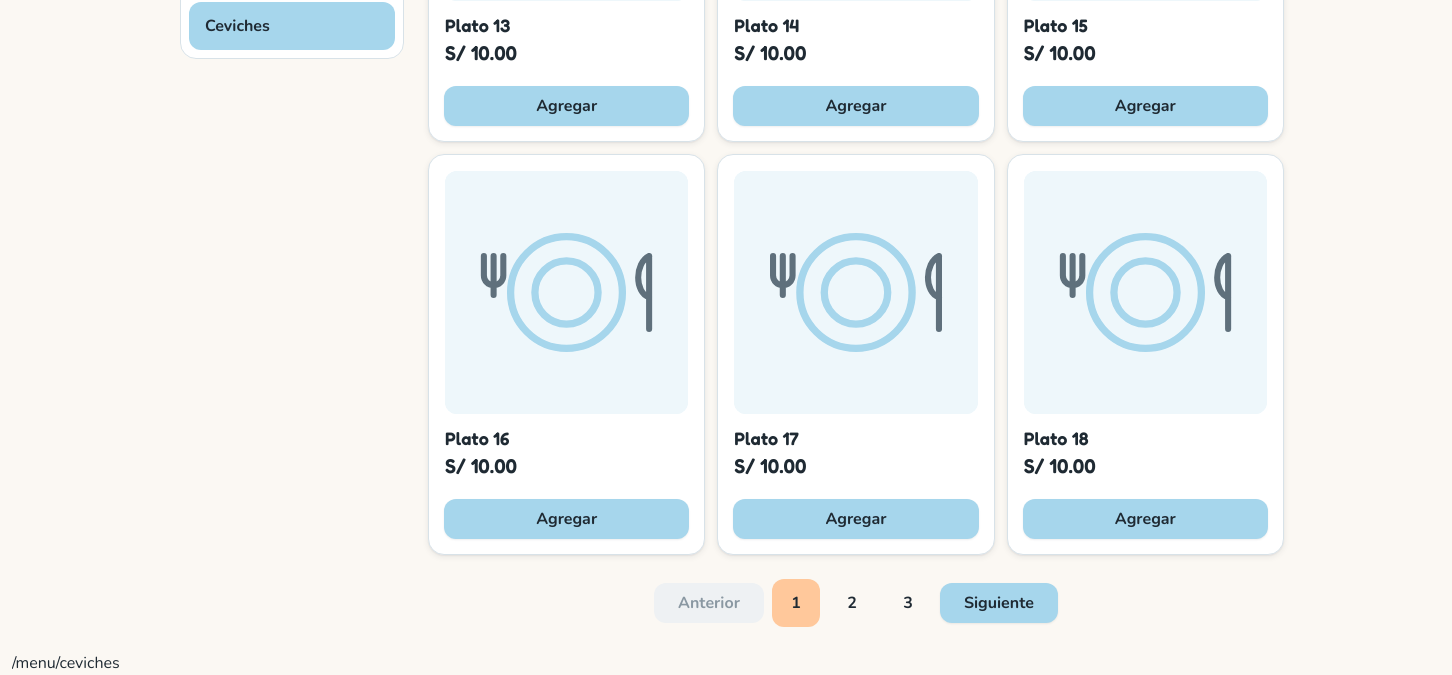
Test case: CatalogPage › pone la página en la URL al paginar
(page scrolled)
Click the button "Siguiente": (999, 603) [940,583,1058,623]
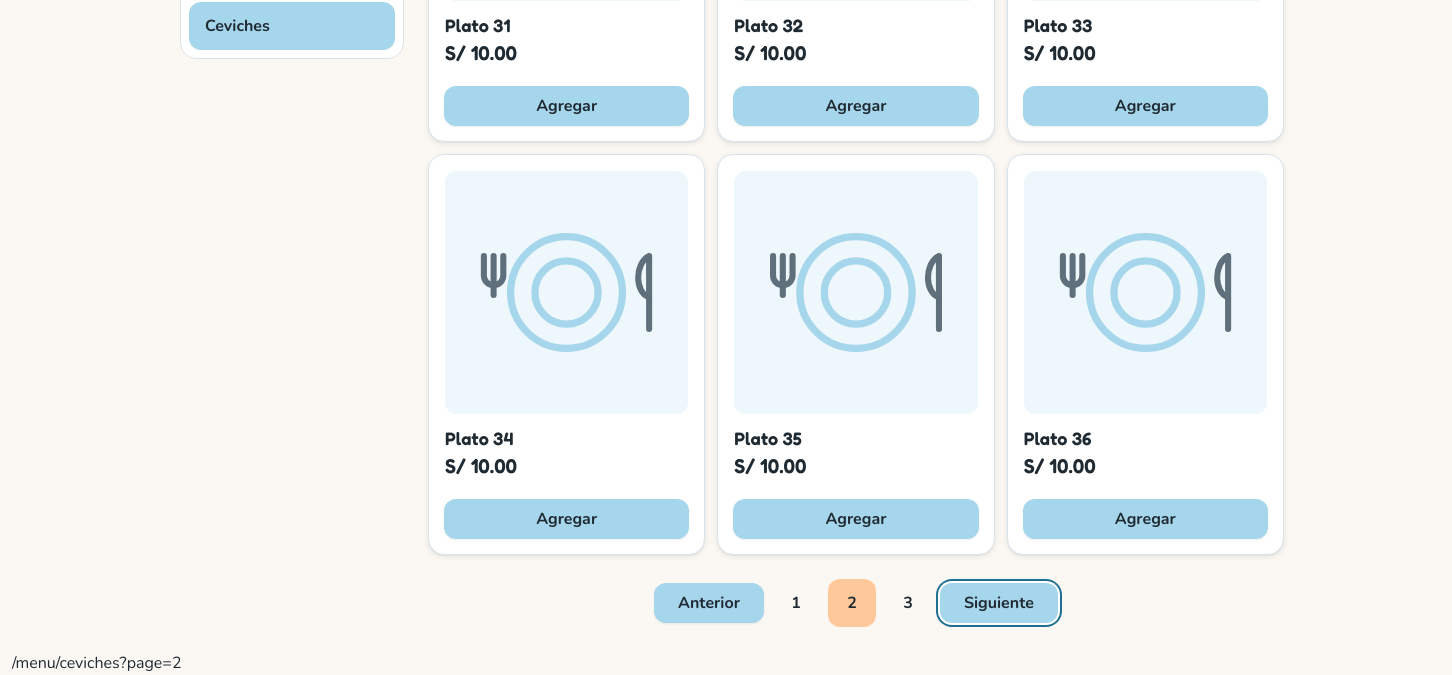
Check: the text with test id "location" reads "/menu/ceviches?page=2", box [12,652,182,674]
